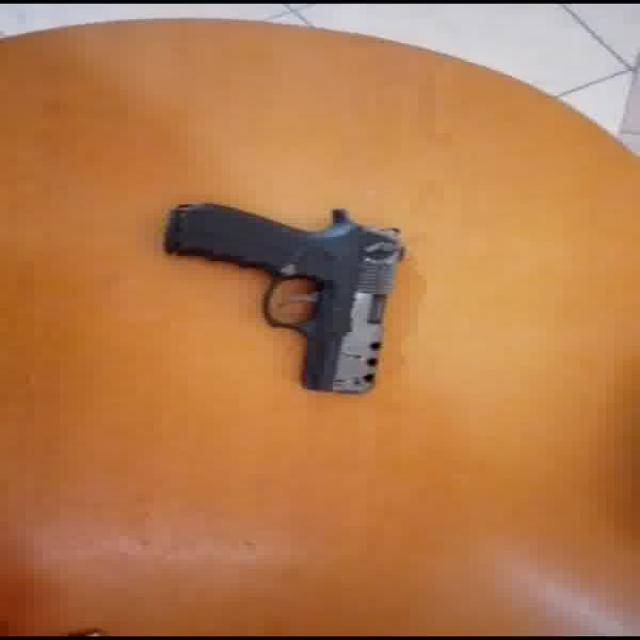weapon: (162, 201, 408, 395)
